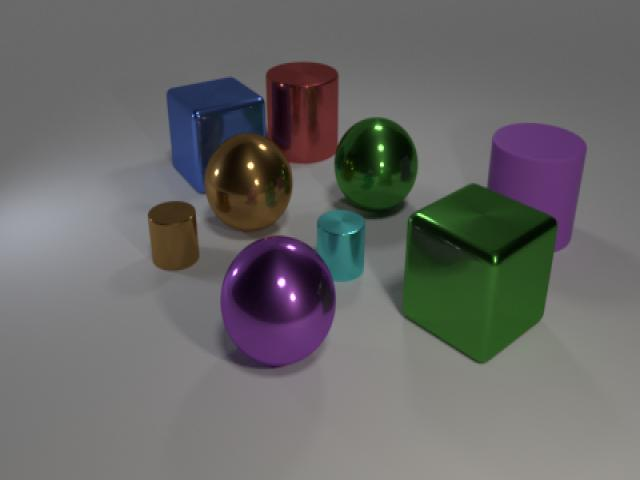cylinder: (482, 114, 592, 260), (263, 57, 341, 163), (312, 205, 370, 289), (144, 198, 203, 276)
round ball: (217, 232, 341, 374), (202, 126, 295, 236), (329, 110, 423, 216)
